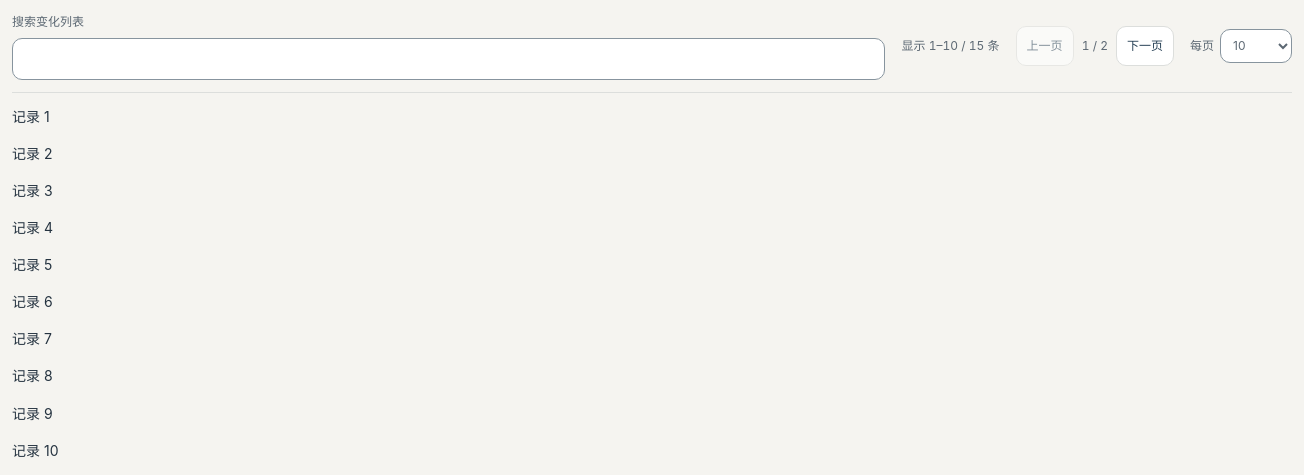
Test: bounded collections › keeps paging controls when a smaller page size outlives a shrinking dataset
The width and height of the screenshot is (1304, 475).
Earlier steps of the test are not shown.
Click the button with aria-label "下一页：变化列表" at (1145, 46), box x1=1116 y1=26 x2=1174 y2=66
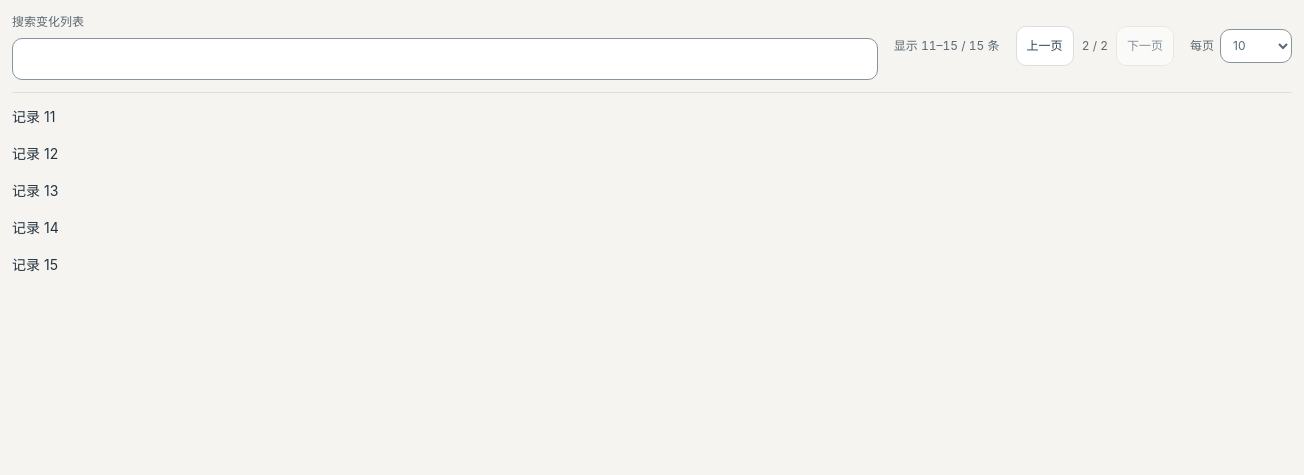
Now the text "记录 15" is shown, box x1=12 y1=256 x2=58 y2=273
